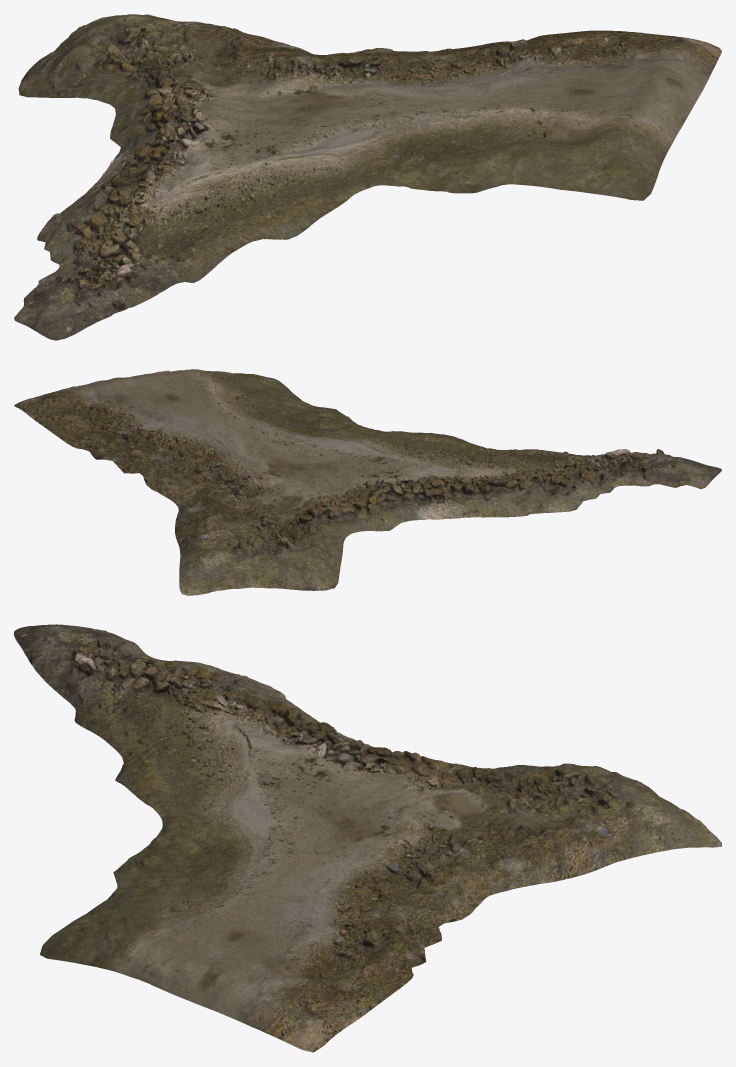
File: coast_rocks_01.glb
3 views of the same model, one above another, from view 1: azimuth 30°, elevation 25°; view 2: azimuth 150°, elevation 25°; view 3: azimuth 270°, elevation 25° (orthographic). The views are drawn at different scales.
Parts seen in each view (by area): view 1: coast_rocks_01; view 2: coast_rocks_01; view 3: coast_rocks_01.
Part boxes in pixels (x1,y1,x2,y2): coast_rocks_01: (14, 14, 721, 340); coast_rocks_01: (14, 369, 721, 595); coast_rocks_01: (14, 624, 721, 1052).
Bounding box in the file's own units: 59.5 × 3.29 × 42.52.
Materials: 1 (1 with a texture image).
